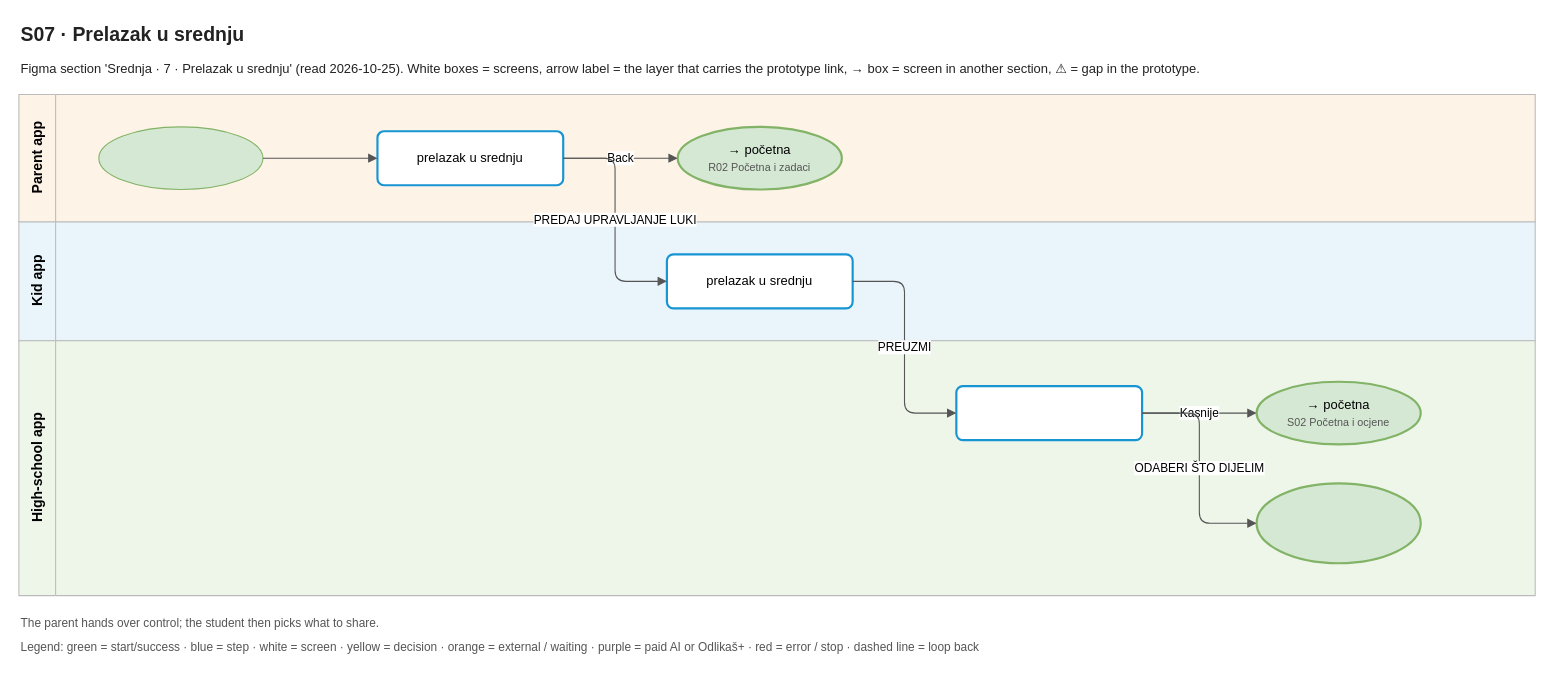
Image size: 1554x676. Some labels were removed from this diagram. Each missing label, with the centre of its shape:
od sada ti upravljaš: the point at 1049,412
System: kid starts high school: the point at 180,158
→ što dijelim S05 Profil, roditelj i Odlikaš+: the point at 1338,523
